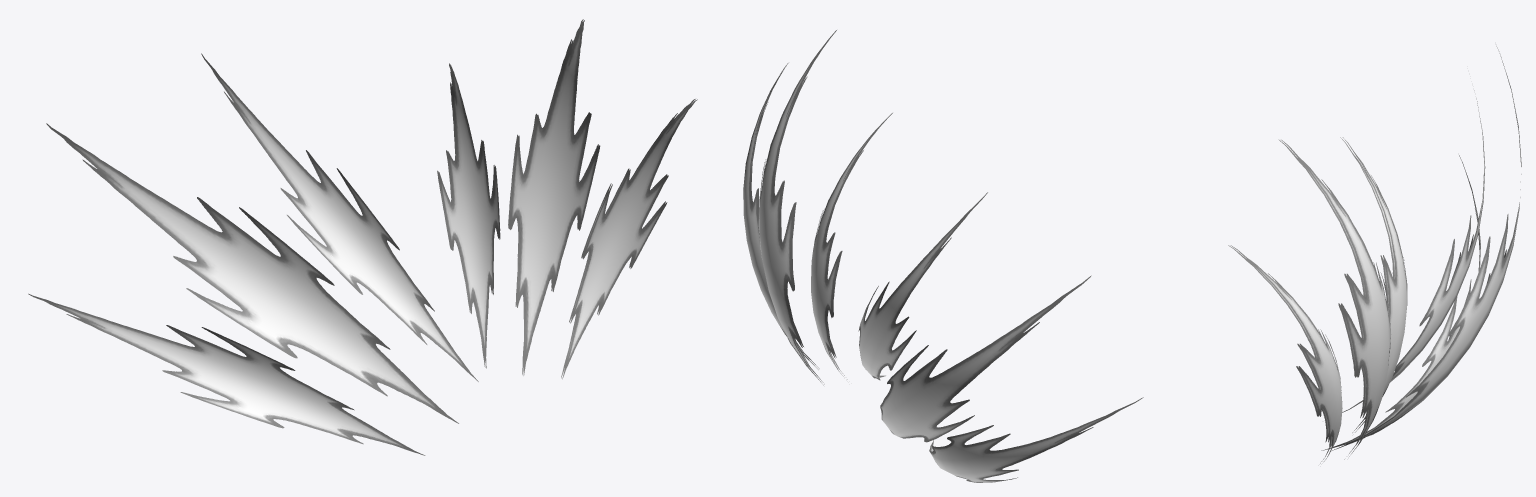
File: fx_m10205_skill02.fbx
3 renders of one model, left to right at view 1: azimuth 30°, elevation 25°; view 2: azimuth 150°, elevation 25°; view 3: azimuth 270°, elevation 25°, orthographic. The views are drawn at different scales.
Parts seen in each view (by area): view 1: R_trail_bite_01, L_trail_bite_01alpha, L_trail_bite_01; view 2: R_trail_bite_01, L_trail_bite_01, L_trail_bite_01alpha; view 3: L_trail_bite_01, R_trail_bite_01, L_trail_bite_01alpha.
Boxes of the visible parts, <box> form: R_trail_bite_01: <box>28,53,478,455</box>; L_trail_bite_01alpha: <box>438,20,697,379</box>; L_trail_bite_01: <box>437,19,695,378</box>; R_trail_bite_01: <box>858,192,1143,482</box>; L_trail_bite_01: <box>743,31,891,385</box>; L_trail_bite_01alpha: <box>750,30,892,384</box>; L_trail_bite_01: <box>1230,137,1407,461</box>; R_trail_bite_01: <box>1321,46,1521,450</box>; L_trail_bite_01alpha: <box>1228,137,1395,463</box>.
Size of the model in its own units: 587 by 433 by 320.
